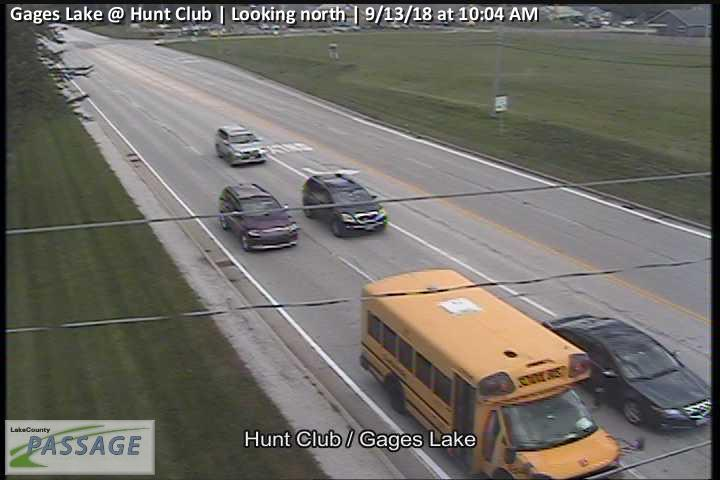Bus: (360, 267, 642, 480)
SUV: (219, 184, 297, 252), (303, 174, 387, 237), (215, 123, 267, 168)
Sedan: (543, 313, 710, 430)
